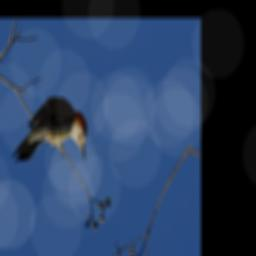Woodpecker: (4, 84, 97, 187)
